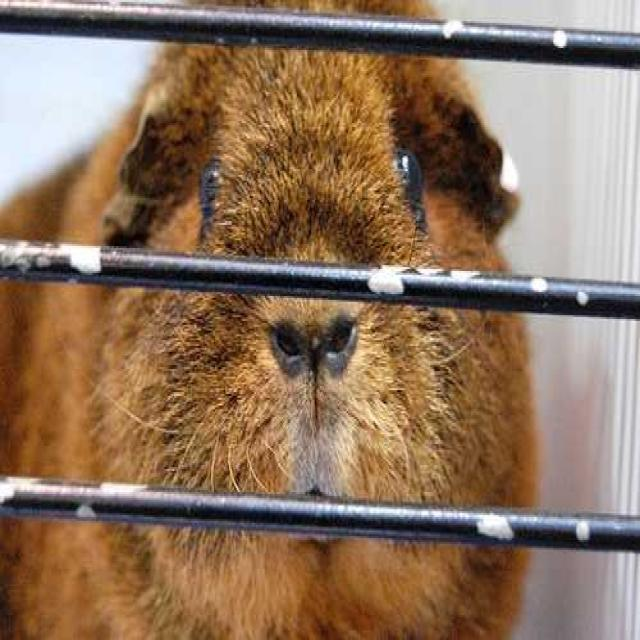guinea pig: (0, 2, 540, 640)
